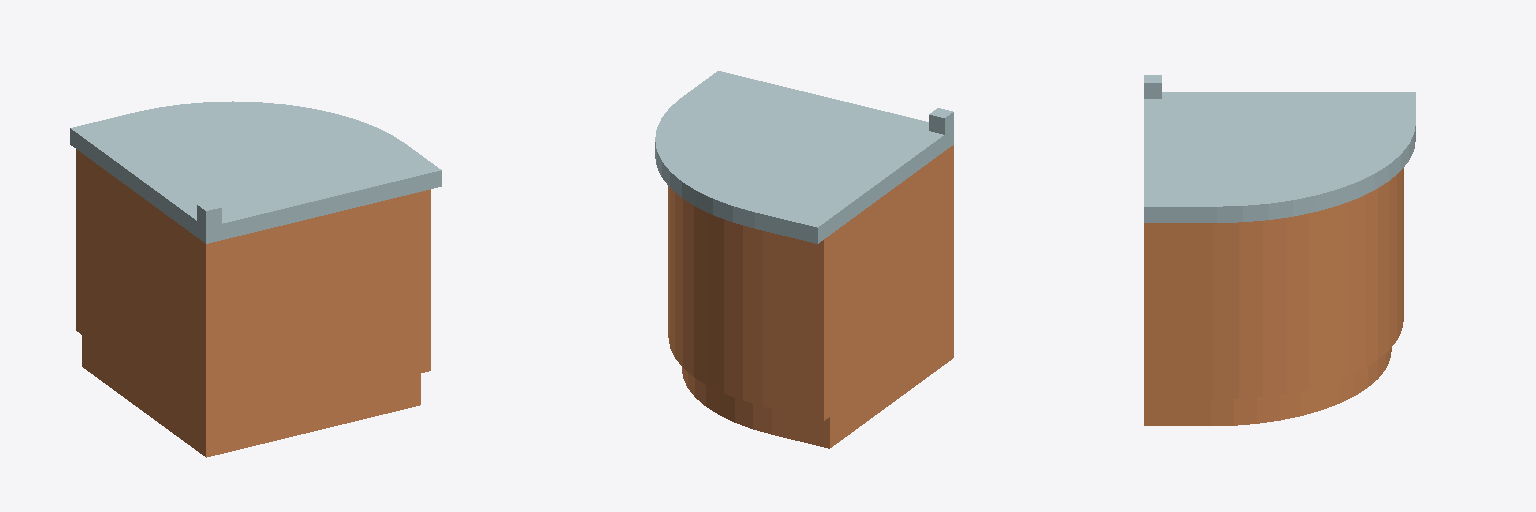
File: kitchenCabinetCornerRound.obj
3 views of the same model, side by side, from view 1: azimuth 30°, elevation 25°; view 2: azimuth 150°, elevation 25°; view 3: azimuth 270°, elevation 25° (orthographic).
Parts seen in each view (by area): view 1: kitchenCabinetCornerRound; view 2: kitchenCabinetCornerRound; view 3: kitchenCabinetCornerRound.
Boxes of the visible parts, x1,y1,x2,y2 form: kitchenCabinetCornerRound: [70, 101, 441, 457]; kitchenCabinetCornerRound: [655, 71, 953, 448]; kitchenCabinetCornerRound: [1144, 75, 1415, 425].
Bounding box in the file's own units: 0.45 × 0.45 × 0.45.